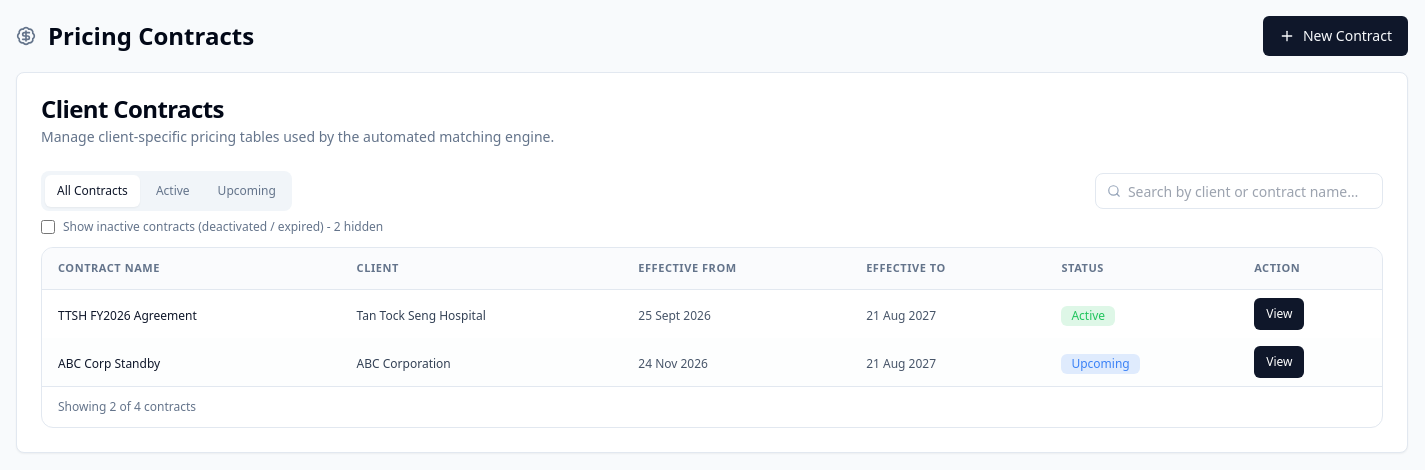
PricingContractPage - filtering and search › search matches the client name as well as the contract name
This screenshot has width=1425, height=470.
Expected: the text "TTSH FY2026 Agreement" is shown, [58,306,197,324]
Type "Tan Tock" into the field with placeholder "Search by client or contract name…" at coordinates (1239, 191), box [1095,173,1383,209]
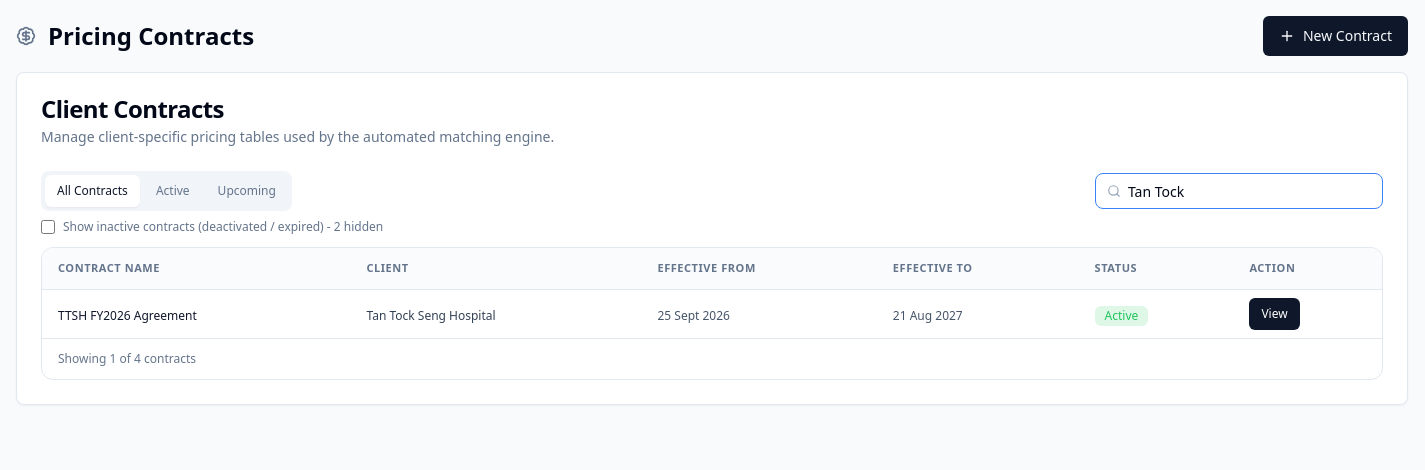
Expected: the text "TTSH FY2026 Agreement" is shown, [58,306,197,324]
Result: the text "ABC Corp Standby" is gone
